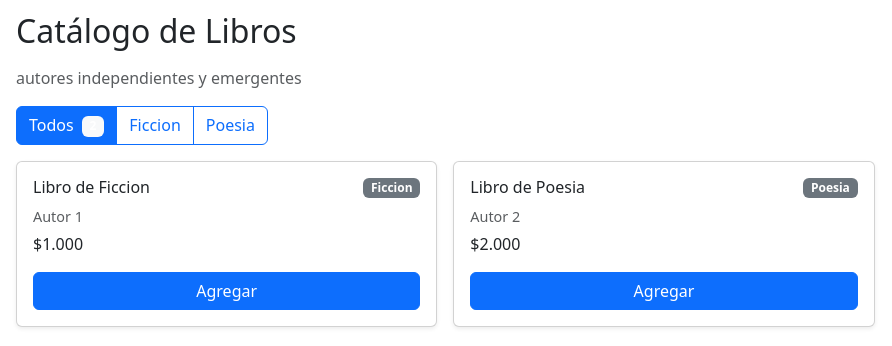
Test case: Componente Catalogo › filtra los libros al hacer click en una categoria
Check: the text "Libro de Ficcion" is shown, box left=33, top=178, right=150, bottom=197
Check: the text "Libro de Poesia" is shown, box left=470, top=178, right=585, bottom=197
Note: click en el filtro "ficcion"
Click the button "Ficcion" at (155, 126), box left=116, top=106, right=194, bottom=145
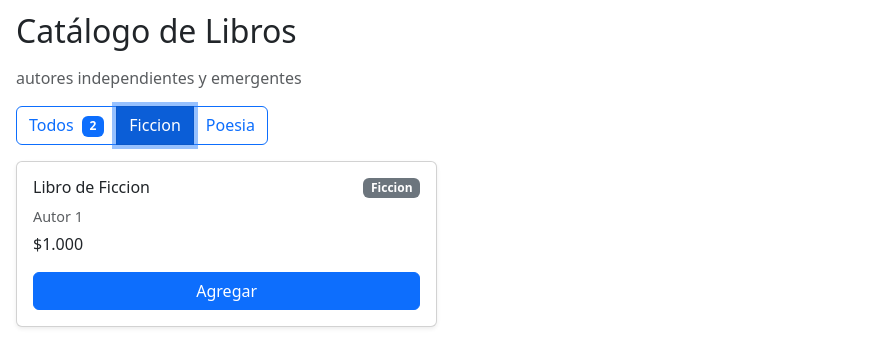
Check: the text "Libro de Ficcion" is shown, box left=33, top=178, right=150, bottom=197
Check: the text "Libro de Poesia" is gone
